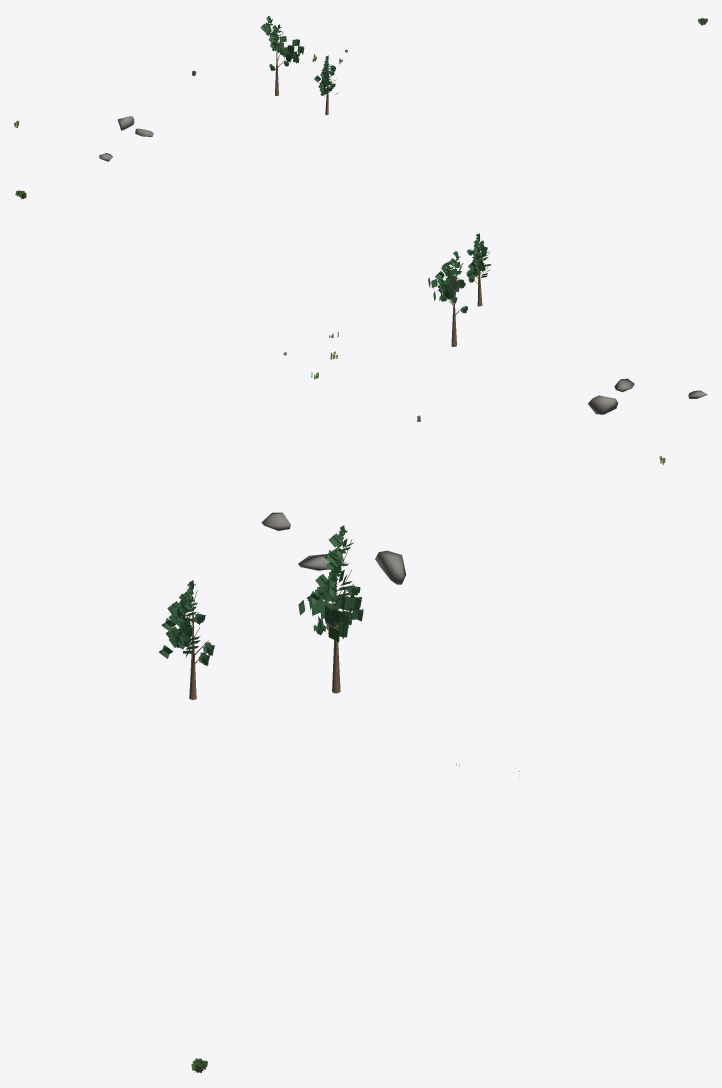
The model's file is arch_land_scatter_c18_16.glb.
The picture shows the model from 3 angles, top to bottom: view 1: azimuth 30°, elevation 25°; view 2: azimuth 150°, elevation 25°; view 3: azimuth 270°, elevation 25°; orthographic projection. The views are drawn at different scales.
Visible parts, largest first — view 1: arch_land_scatter_c18_16; view 2: arch_land_scatter_c18_16; view 3: arch_land_scatter_c18_16.
Boxes of the visible parts, bbox=[...] form: arch_land_scatter_c18_16: bbox=[14, 15, 707, 161]; arch_land_scatter_c18_16: bbox=[15, 190, 707, 464]; arch_land_scatter_c18_16: bbox=[159, 512, 519, 1072].
Size of the model in its own units: 116 by 17.14 by 33.2.
